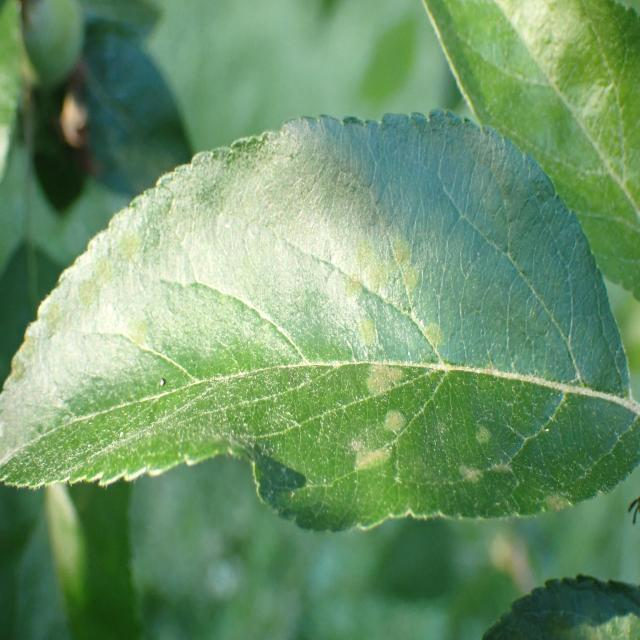scab: (0, 174, 592, 515)
